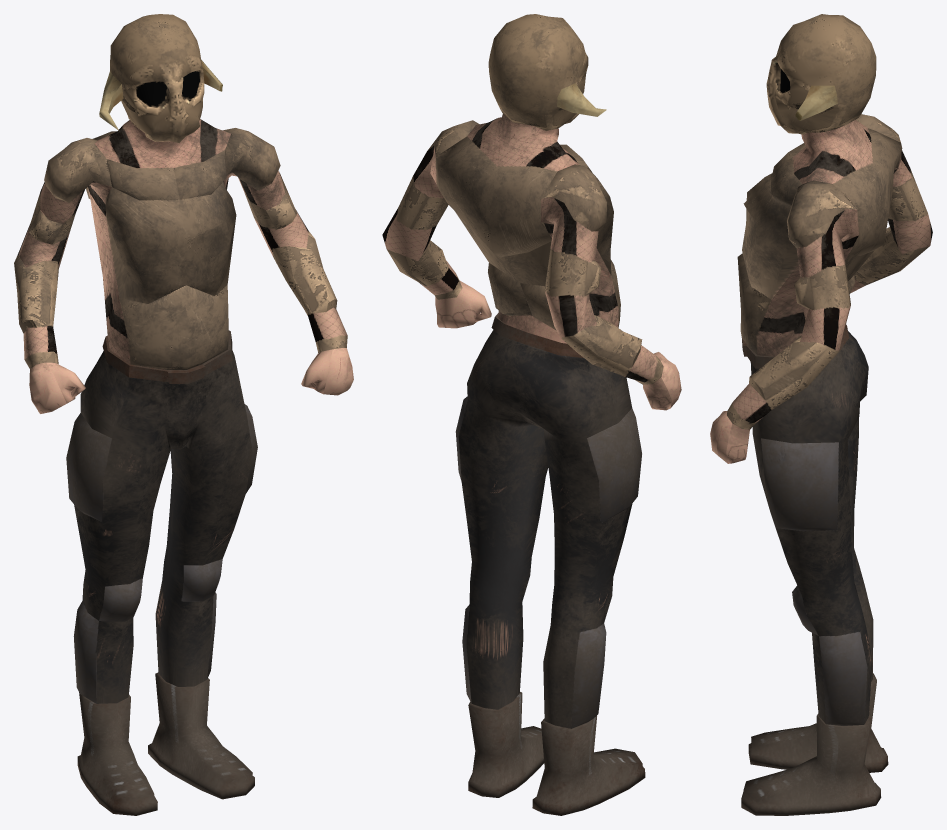
The model's file is Anim_ataque_d2_npc1.0012.obj.
3 views of the same model, side by side, from view 1: azimuth 30°, elevation 25°; view 2: azimuth 150°, elevation 25°; view 3: azimuth 270°, elevation 25° (orthographic).
Parts seen in each view (by area): view 1: NPC2; view 2: NPC2; view 3: NPC2.
Boxes of the visible parts, box(x1,y1,x2,y2) form: NPC2: box(14, 14, 353, 815); NPC2: box(382, 14, 681, 815); NPC2: box(710, 14, 932, 815).
Bounding box in the file's own units: 3.79 × 9.63 × 2.54.
